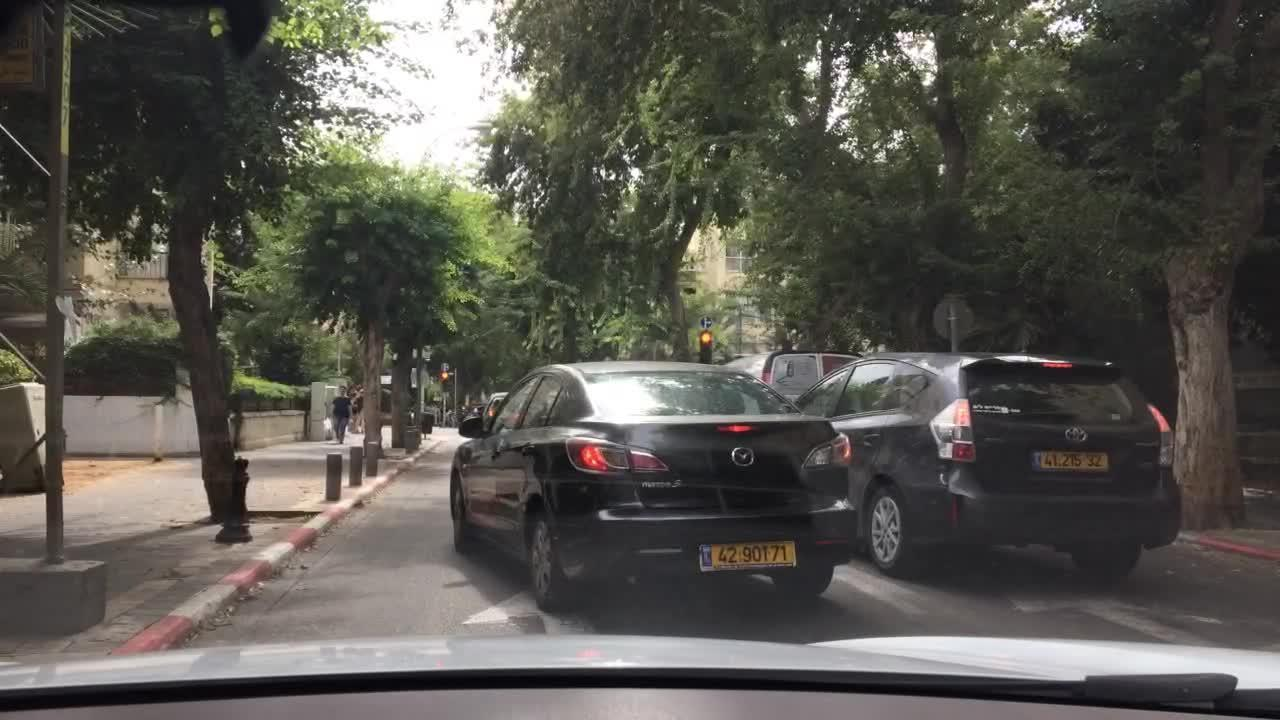Mazda: (735, 445, 754, 465)
